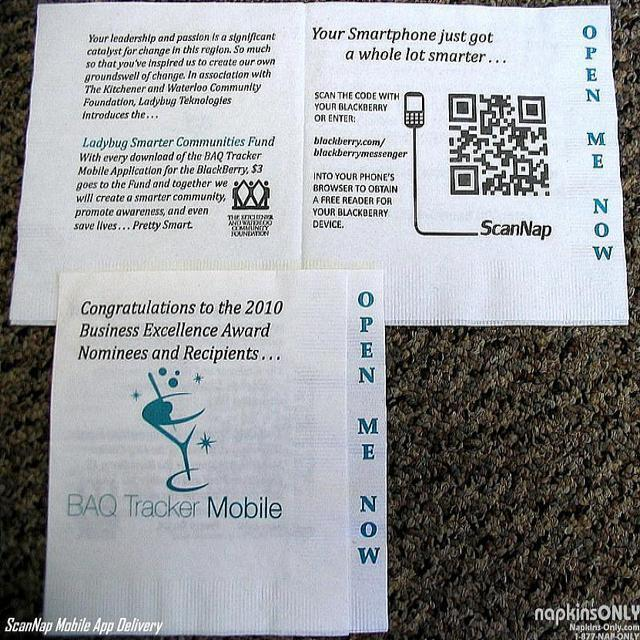qrcode: (450, 95, 550, 196)
